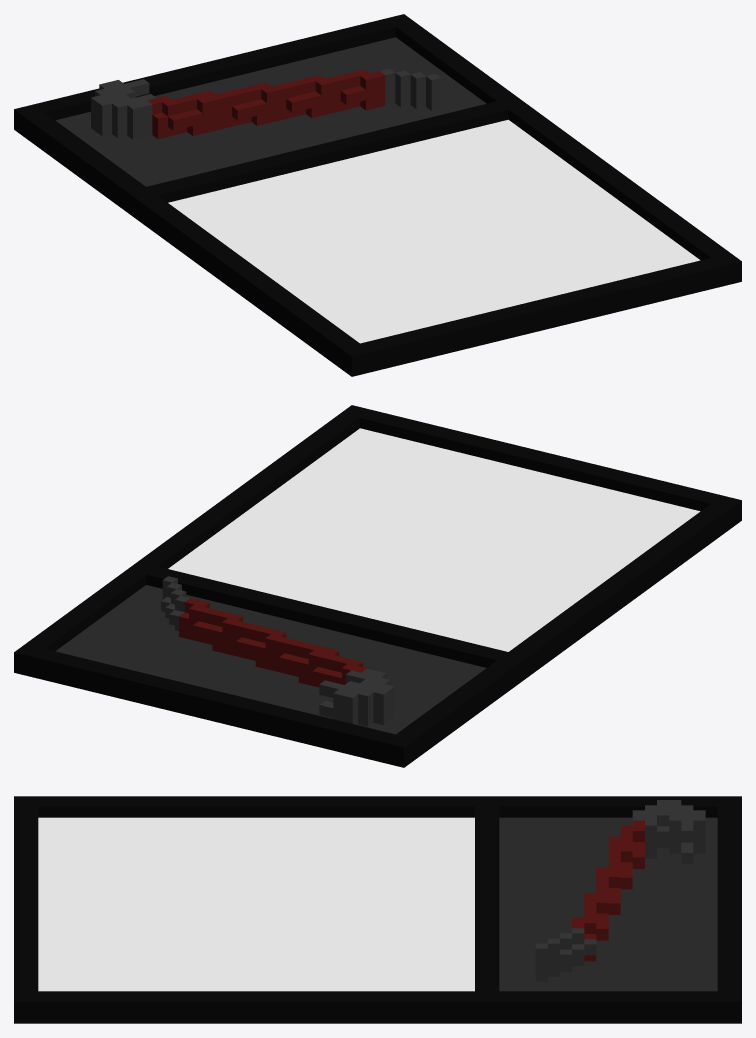
Rendered from tile32.obj.
3 views of the same model, one above another, from view 1: azimuth 30°, elevation 25°; view 2: azimuth 150°, elevation 25°; view 3: azimuth 270°, elevation 25° (orthographic). The views are drawn at different scales.
Size of the model in its own units: 4 by 0.4 by 6.
Materials: 1 (1 with a texture image).
